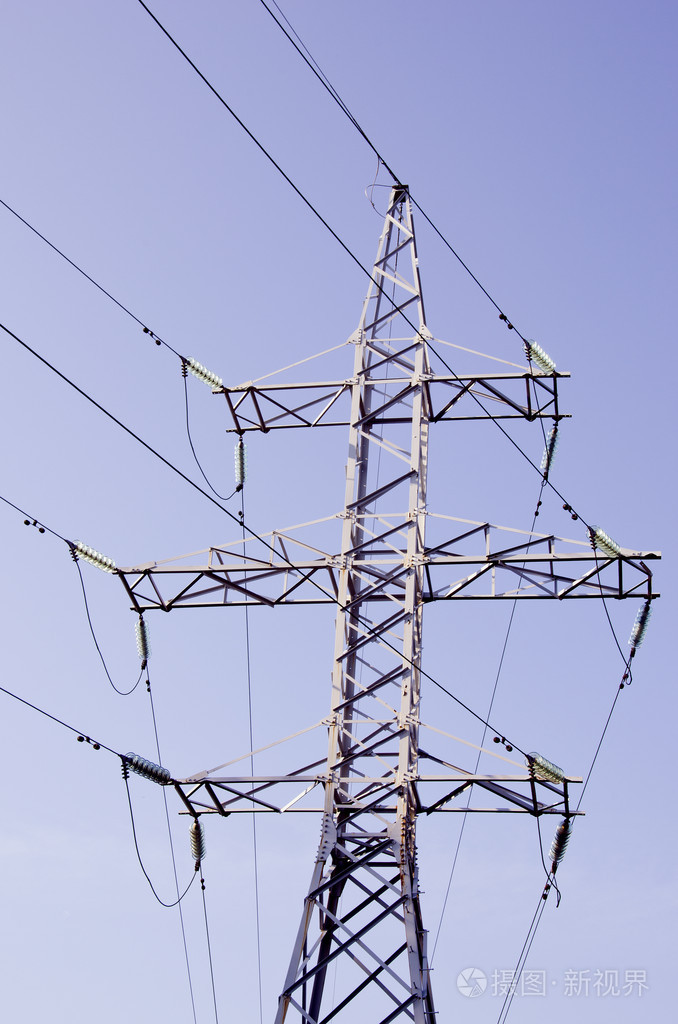insulator: (122, 749, 173, 785), (523, 748, 567, 783), (182, 353, 224, 389), (74, 542, 116, 574), (546, 819, 572, 868), (584, 526, 620, 559), (624, 605, 651, 646), (525, 338, 554, 375)
